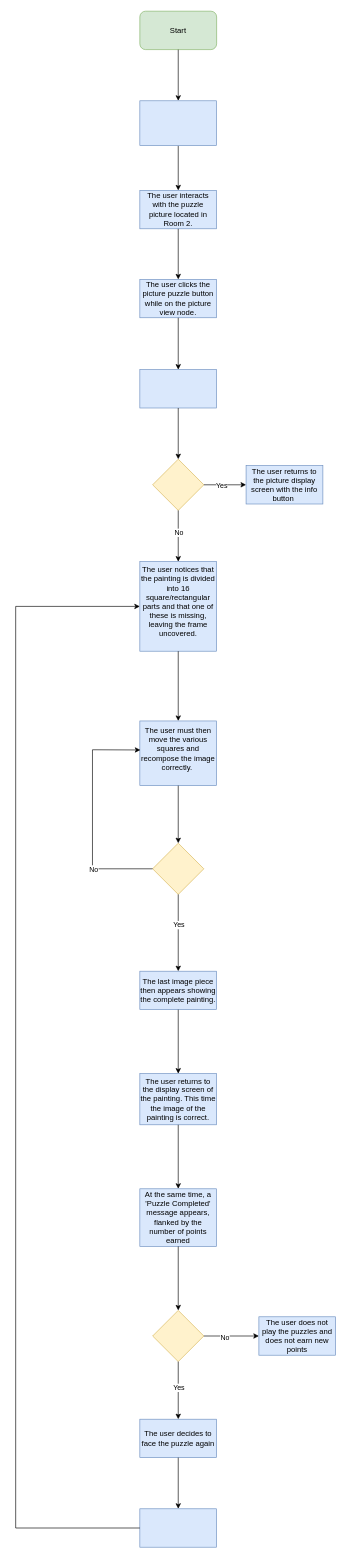
Image size: 347x1558. Some labels were removed from this diagram. The centre of each missing label's shape, as x and y in pixels:
Did the user log in the next day?: [178,1336]
Does the user click the back button?: [178,484]
Has the user correctly recomposed the image?: [178,868]
The info button disappears: [178,388]
The user enters room 2 and across the room notices the difference in the picture: [178,123]
The user faces a split 15 with a painting and thus a different image: [178,1527]
